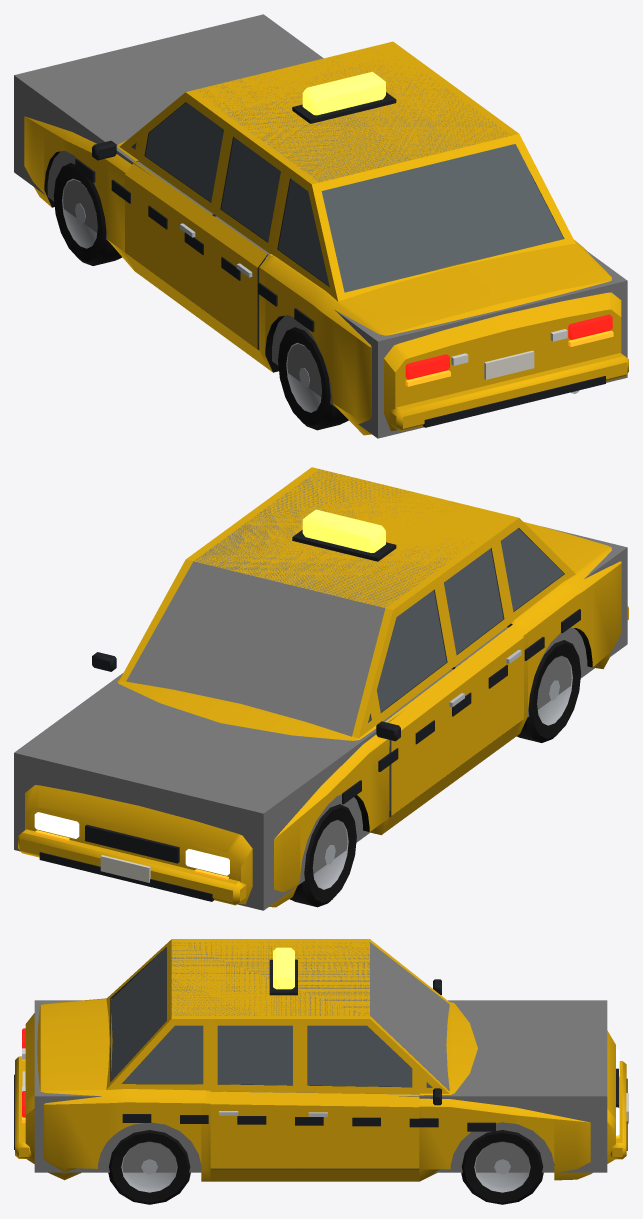
The model's file is taxi.glb.
3 views of the same model, one above another, from view 1: azimuth 30°, elevation 25°; view 2: azimuth 150°, elevation 25°; view 3: azimuth 270°, elevation 25° (orthographic). The views are drawn at different scales.
Parts seen in each view (by area): view 1: taxi, taxi_Cabin, taxi_Body, taxi_Door_FL, taxi_Door_RL, taxi_Bumper_R, taxi_Wheel_RL, taxi_Wheel_FL; view 2: taxi, taxi_Body, taxi_Cabin, taxi_Door_FL, taxi_Door_RL, taxi_Bumper_F, taxi_Wheel_FL, taxi_Wheel_RL, taxi_Grille; view 3: taxi, taxi_Body, taxi_Cabin, taxi_Door_FR, taxi_Door_RR, taxi_Wheel_FR, taxi_Wheel_RR, taxi_Bumper_R, taxi_Bumper_F.
Boxes of the visible parts, x1,y1,x2,y2 form: taxi: (14, 14, 627, 438); taxi_Cabin: (119, 41, 575, 301); taxi_Body: (24, 71, 621, 435); taxi_Door_FL: (125, 92, 229, 307); taxi_Door_RL: (201, 125, 286, 348); taxi_Bumper_R: (389, 353, 628, 431); taxi_Wheel_RL: (278, 327, 348, 430); taxi_Wheel_FL: (53, 163, 122, 265); taxi: (14, 469, 627, 910); taxi_Body: (25, 509, 621, 907); taxi_Cabin: (119, 467, 575, 738); taxi_Door_FL: (371, 578, 466, 815); taxi_Door_RL: (437, 536, 523, 760); taxi_Bumper_F: (18, 829, 246, 905); taxi_Wheel_FL: (289, 804, 356, 907); taxi_Wheel_RL: (517, 640, 580, 742); taxi_Grille: (85, 824, 179, 863); taxi: (34, 942, 607, 1172); taxi_Body: (22, 947, 619, 1181); taxi_Cabin: (106, 939, 449, 1093); taxi_Door_FR: (300, 1019, 419, 1168); taxi_Door_RR: (210, 1019, 299, 1168); taxi_Wheel_FR: (461, 1130, 543, 1204); taxi_Wheel_RR: (108, 1130, 190, 1204); taxi_Bumper_R: (14, 1056, 31, 1158); taxi_Bumper_F: (610, 1061, 628, 1159).
Size of what is drawn, in the model's own units: 2.14 by 1.68 by 4.74.
